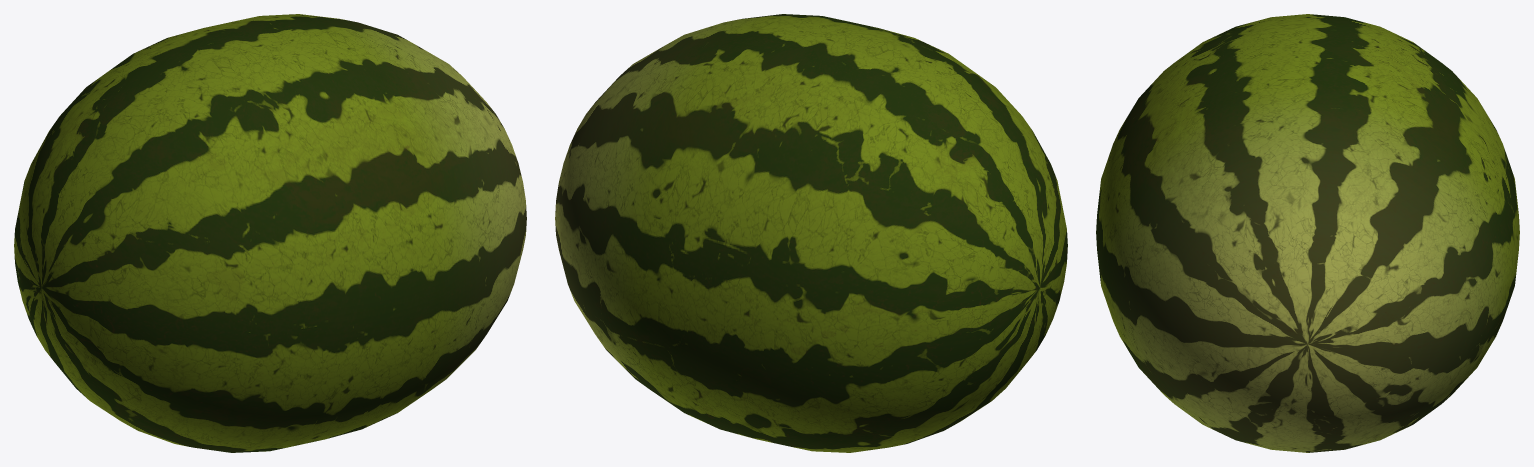
File: watermelon.glb
3 views of the same model, side by side, from view 1: azimuth 30°, elevation 25°; view 2: azimuth 150°, elevation 25°; view 3: azimuth 270°, elevation 25° (orthographic). The views are drawn at different scales.
Parts seen in each view (by area): view 1: Sphere; view 2: Sphere; view 3: Sphere.
Boxes of the visible parts, x1,y1,x2,y2 form: Sphere: (14, 14, 526, 452); Sphere: (555, 14, 1067, 452); Sphere: (1096, 14, 1519, 452).
Bounding box in the file's own units: 2.4 × 1.93 × 1.98.
1 material, 1 textured.
